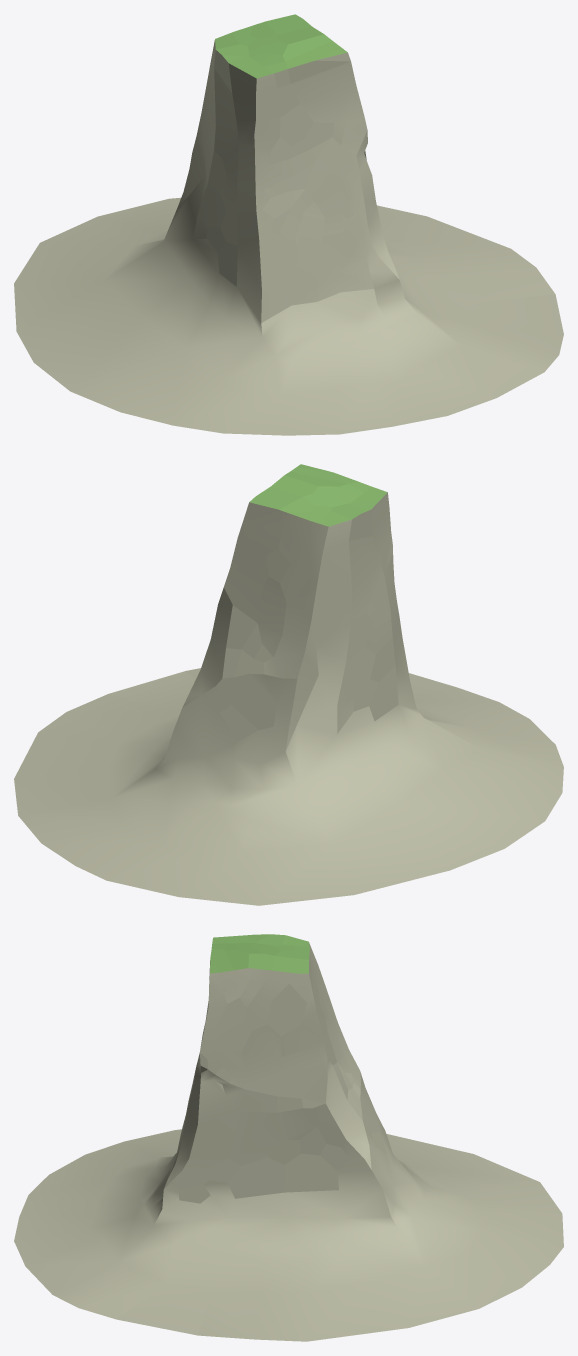
Rendered from island_rocky_C_mini_circle.fbx.
3 renders of one model, top to bottom at view 1: azimuth 30°, elevation 25°; view 2: azimuth 150°, elevation 25°; view 3: azimuth 270°, elevation 25°, orthographic. The views are drawn at different scales.
Visible parts, largest first — view 1: island_rocky_C_mini_circle; view 2: island_rocky_C_mini_circle; view 3: island_rocky_C_mini_circle.
Part boxes in pixels (x1,y1,x2,y2): island_rocky_C_mini_circle: (14, 14, 563, 435); island_rocky_C_mini_circle: (14, 464, 563, 905); island_rocky_C_mini_circle: (14, 934, 563, 1341).
Bounding box in the file's own units: 2994 × 1743 × 3176.
